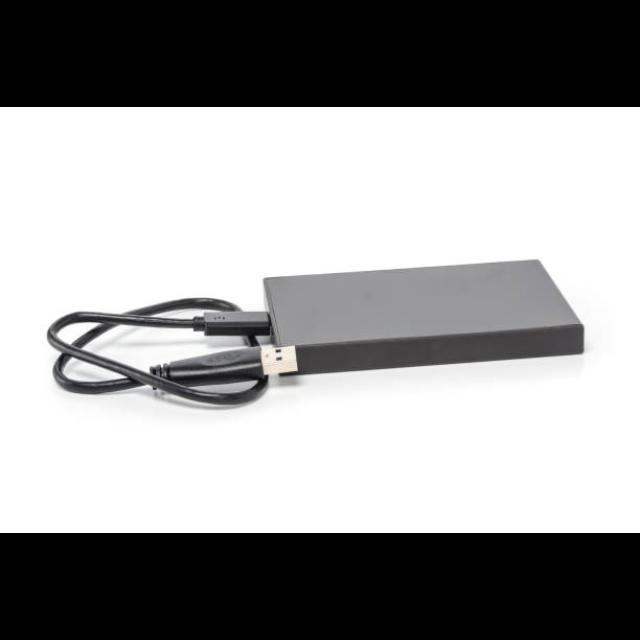HDD: (262, 260, 585, 376)
